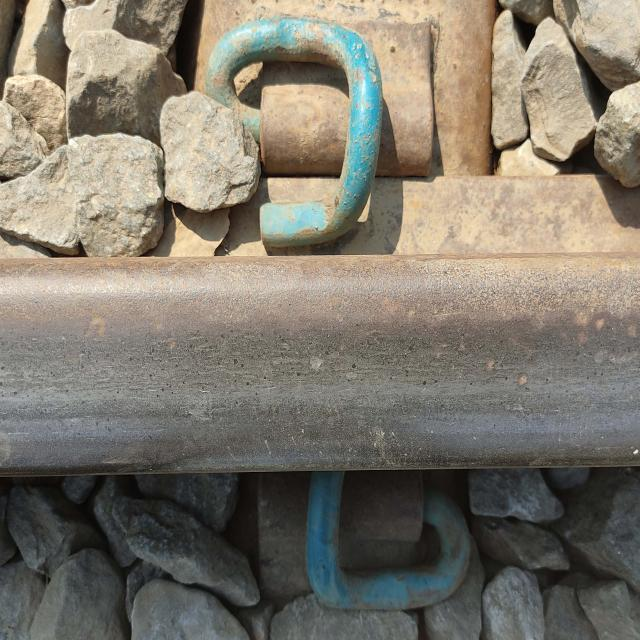Good Fasteners: (205, 16, 434, 246), (257, 471, 475, 609)
